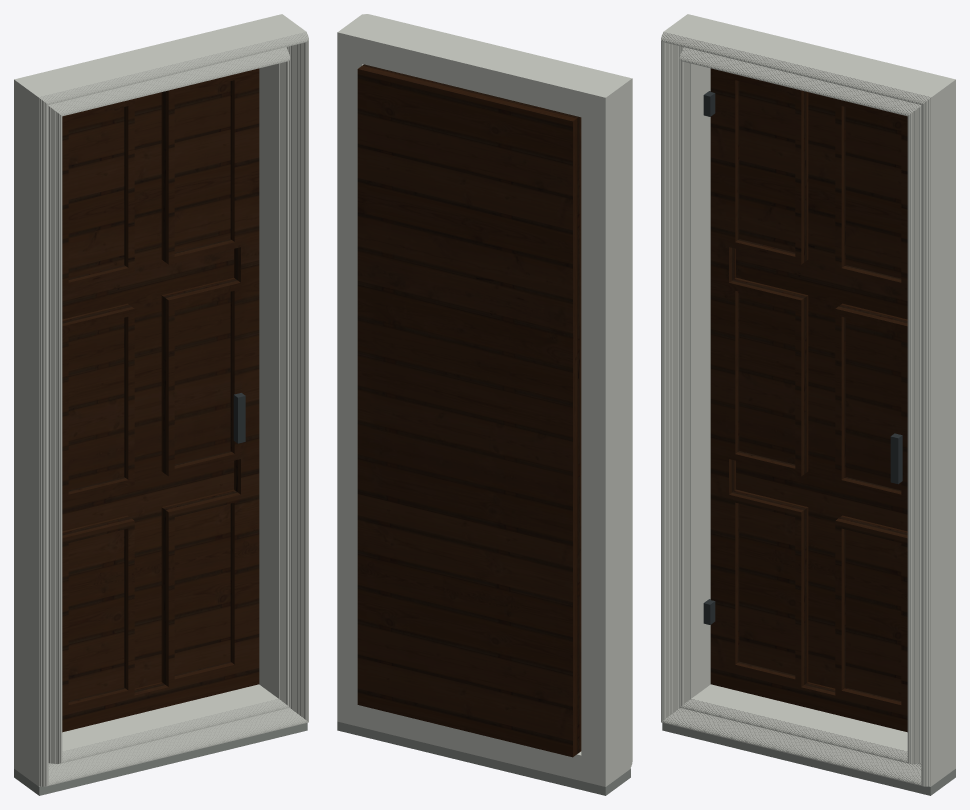
The model's file is barroco_rectangle_puerta.glb.
3 views of the same model, side by side, from view 1: azimuth 30°, elevation 25°; view 2: azimuth 150°, elevation 25°; view 3: azimuth 330°, elevation 25° (orthographic).
Visible parts, largest first — view 1: door_panel_back#0001, door_reveal#0001, door_leaf_frame#0001, door_moulding#0096, door_coffer#0005, door_coffer#0004, door_coffer#0006, door_coffer#0002, door_coffer#0001, door_coffer#0003, door_moulding#0001, door_panel_moulding#0004 (+81 smaller); view 2: door_panel_back#0001, door_reveal#0001, door_leaf_frame#0001, door_moulding#0096, door_threshold#0001, door_moulding#0095, door_moulding#0093, door_moulding#0094, door_moulding#0092, door_moulding#0090, door_moulding#0089, door_moulding#0085; view 3: door_panel_back#0001, door_reveal#0001, door_leaf_frame#0001, door_moulding#0096, door_coffer#0002, door_coffer#0001, door_coffer#0003, door_coffer#0004, door_coffer#0006, door_coffer#0005, door_moulding#0001, door_panel_moulding#0002 (+81 smaller).
Part boxes in pixels (bbox=[...]): door_panel_back#0001: bbox=[62, 92, 233, 688]; door_reveal#0001: bbox=[14, 14, 295, 777]; door_leaf_frame#0001: bbox=[62, 68, 259, 732]; door_moulding#0096: bbox=[25, 24, 306, 786]; door_coffer#0005: bbox=[161, 277, 236, 473]; door_coffer#0004: bbox=[161, 489, 236, 683]; door_coffer#0006: bbox=[161, 81, 230, 261]; door_coffer#0002: bbox=[62, 303, 129, 490]; door_coffer#0001: bbox=[62, 515, 129, 700]; door_coffer#0003: bbox=[68, 107, 124, 278]; door_moulding#0001: bbox=[62, 63, 279, 751]; door_panel_moulding#0004: bbox=[164, 491, 240, 686]; door_panel_back#0001: bbox=[376, 92, 554, 733]; door_reveal#0001: bbox=[337, 22, 619, 786]; door_leaf_frame#0001: bbox=[357, 64, 581, 757]; door_moulding#0096: bbox=[351, 14, 630, 778]; door_threshold#0001: bbox=[337, 721, 630, 795]; door_moulding#0095: bbox=[363, 14, 630, 767]; door_moulding#0093: bbox=[365, 14, 631, 766]; door_moulding#0094: bbox=[364, 14, 630, 767]; door_moulding#0092: bbox=[365, 14, 631, 765]; door_moulding#0090: bbox=[368, 14, 631, 764]; door_moulding#0089: bbox=[367, 14, 632, 763]; door_moulding#0085: bbox=[632, 78, 632, 761]; door_panel_back#0001: bbox=[736, 92, 907, 688]; door_reveal#0001: bbox=[674, 14, 955, 777]; door_leaf_frame#0001: bbox=[710, 68, 907, 732]; door_moulding#0096: bbox=[663, 24, 944, 786]; door_coffer#0002: bbox=[733, 277, 808, 473]; door_coffer#0001: bbox=[733, 489, 808, 683]; door_coffer#0003: bbox=[739, 81, 808, 261]; door_coffer#0004: bbox=[840, 515, 907, 700]; door_coffer#0006: bbox=[845, 107, 901, 278]; door_coffer#0005: bbox=[840, 303, 907, 490]; door_moulding#0001: bbox=[690, 63, 907, 751]; door_panel_moulding#0002: bbox=[729, 279, 805, 476].
Size of the model in its own units: 1.1 by 2.73 by 0.2577.
4 materials, 1 textured.
